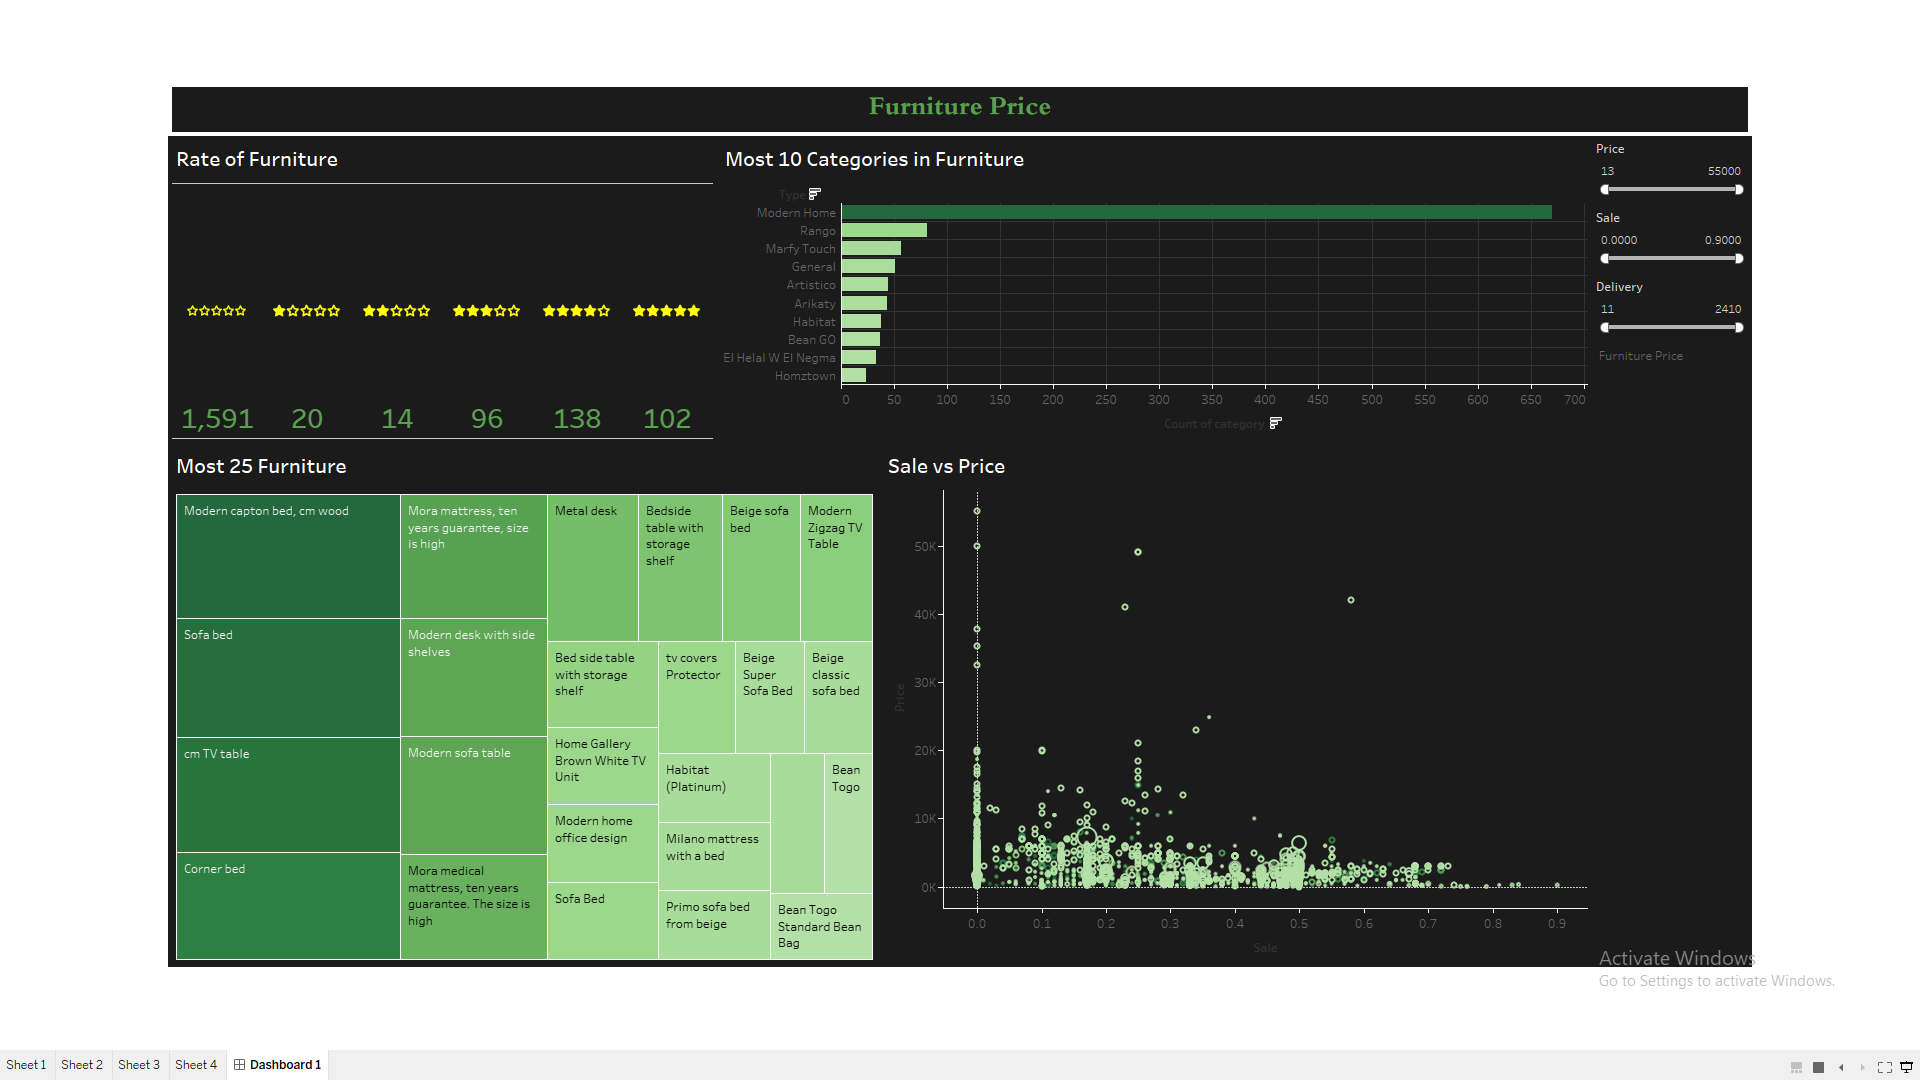

The page's visual inventory and layout, read from the dashboard file:
{"tool":"tableau","page":{"name":"Dashboard 1","canvas":[1600,900],"ordinal":0},"visuals":[{"type":"text","box":[8,8,1584,53]},{"type":"worksheet","title":"Sheet 3","mark":"Shape","cols":["Rate (bin)"],"box":[8,61,549,307.4]},{"type":"worksheet","title":"Sheet 2","mark":"Automatic","rows":["type"],"cols":["Calculation_832884473623191553"],"box":[557,61,875,307.4]},{"type":"filter","title":"Sheet 4","param":"[federated.01h0npr0fmf93f1crct0b1sq5mqp].[none:price:qk]","box":[1432,61,160,69]},{"type":"filter","title":"Sheet 4","param":"[federated.01h0npr0fmf93f1crct0b1sq5mqp].[none:sale:qk]","box":[1432,130,160,69]},{"type":"filter","title":"Sheet 4","param":"[federated.01h0npr0fmf93f1crct0b1sq5mqp].[none:delivery:qk]","box":[1432,199,160,69]},{"type":"text","box":[1432,268,160,25]},{"type":"worksheet","title":"Sheet 1","mark":"Automatic","box":[8,368.4,712,523.6]},{"type":"worksheet","title":"Sheet 4","mark":"Automatic","rows":["price"],"cols":["sale"],"box":[720,368.4,712,523.6]}]}

Visuals, with their boxes on the page's 1600x900 design canvas (x1, y1, x2, y2). These are canvas units, not pixel positions in the 1920x1080 screenshot, which may show the page scaled, cropped or inside an application window:
text: [8,8,1592,61]
"Sheet 3" worksheet (Shape marks): [8,61,557,368]
"Sheet 2" worksheet: [557,61,1432,368]
"Sheet 4" filter: [1432,61,1592,130]
"Sheet 4" filter: [1432,130,1592,199]
"Sheet 4" filter: [1432,199,1592,268]
text: [1432,268,1592,293]
"Sheet 1" worksheet: [8,368,720,892]
"Sheet 4" worksheet: [720,368,1432,892]
